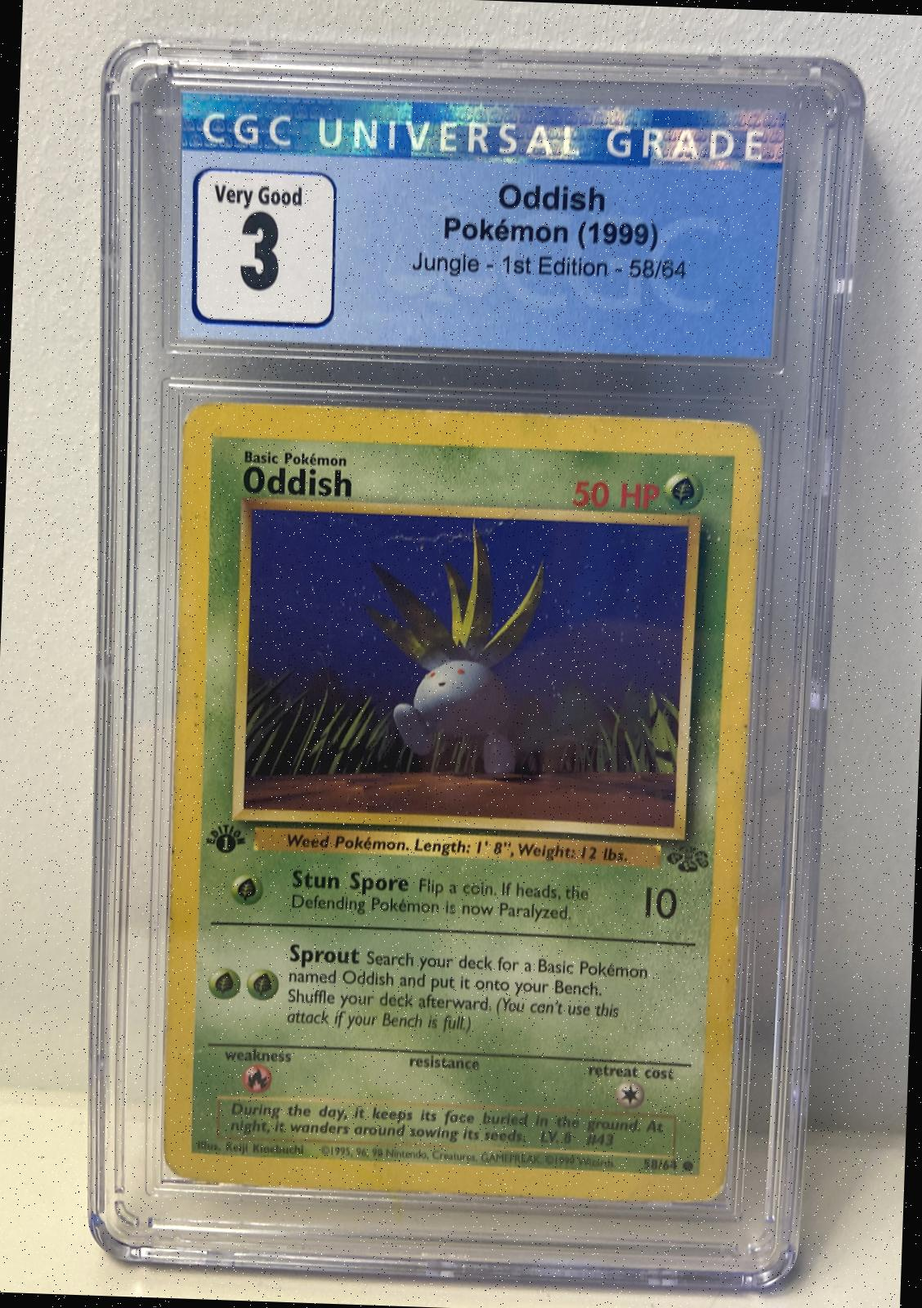card-2UtV: (163, 401, 763, 1204)
